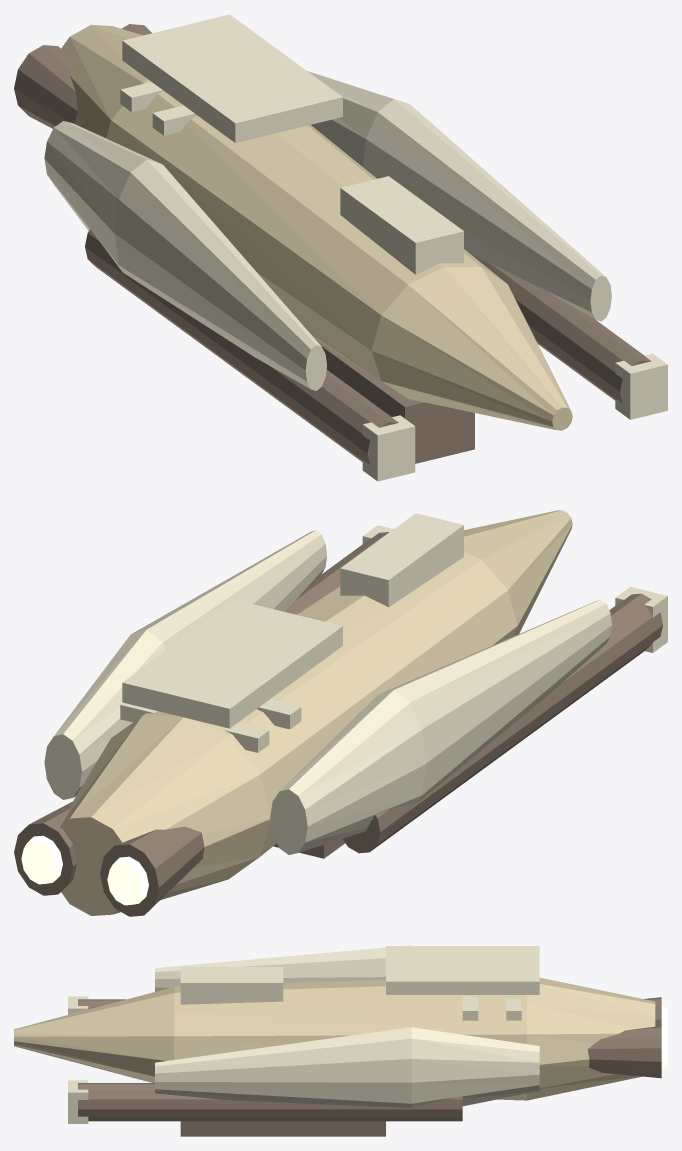
3 views of the same model, one above another, from view 1: azimuth 30°, elevation 25°; view 2: azimuth 150°, elevation 25°; view 3: azimuth 270°, elevation 25° (orthographic). The views are drawn at different scales.
Bounding box in the file's own units: 2.16 × 1.57 × 5.76.
